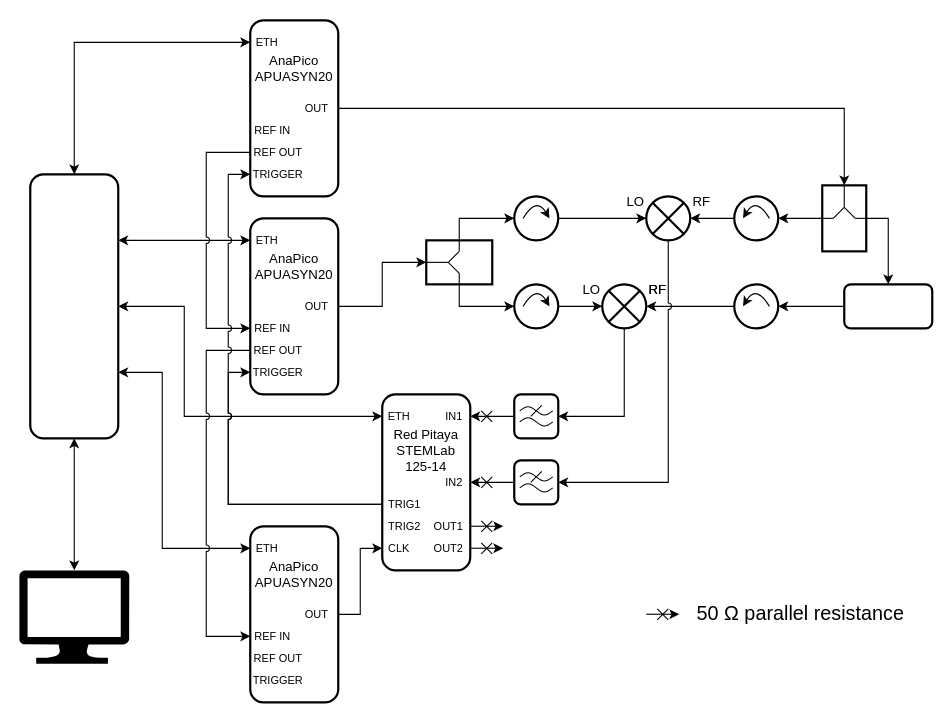
The diagram is 952 pixels wide and 722 high, and some of its shapes have lost their labels. The shapes that lost their labels are listed below. From the top down, each one's centre as x and y in pixels, then its label:
At [74,306]: "Ethernet switch".
At [888,306]: "Device under test".
